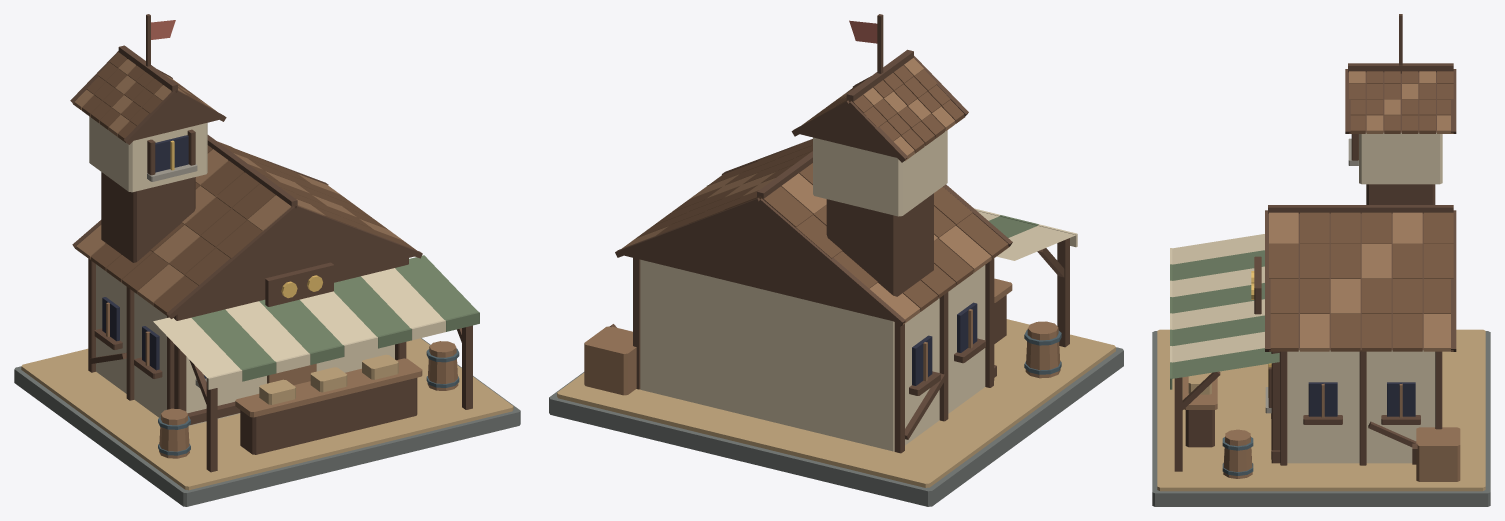
Rendered from ENV_Landmark_outpost_LOD0.glb.
3 renders of one model, left to right at view 1: azimuth 30°, elevation 25°; view 2: azimuth 150°, elevation 25°; view 3: azimuth 270°, elevation 25°, orthographic. The views are drawn at different scales.
Parts seen in each view (by area): view 1: ENV_Landmark_outpost_LOD0_s3-6_sand, ENV_Landmark_outpost_LOD0_s3-6_plasterIvory, ENV_Landmark_outpost_LOD0_s3-6_woodDark, ENV_Landmark_outpost_LOD0_s4-6_woodDark, ENV_Landmark_outpost_LOD0_s4-6_roofDark, ENV_Landmark_outpost_LOD0_s3-6_olive, ENV_Landmark_outpost_LOD0_s5-6_woodDark, ENV_Landmark_outpost_LOD0_s3-6_stoneDark, ENV_Landmark_outpost_LOD0_s4-6_woodLight, ENV_Landmark_outpost_LOD0_s5-6_plasterIvory, ENV_Landmark_outpost_LOD0_s5-6_roofDark, ENV_Landmark_outpost_LOD0_s3-6_woodLight (+4 smaller); view 2: ENV_Landmark_outpost_LOD0_s3-6_plasterIvory, ENV_Landmark_outpost_LOD0_s3-6_sand, ENV_Landmark_outpost_LOD0_s4-6_woodDark, ENV_Landmark_outpost_LOD0_s3-6_stoneDark, ENV_Landmark_outpost_LOD0_s5-6_woodDark, ENV_Landmark_outpost_LOD0_s4-6_roofDark, ENV_Landmark_outpost_LOD0_s3-6_woodDark, ENV_Landmark_outpost_LOD0_s5-6_plasterIvory, ENV_Landmark_outpost_LOD0_s5-6_roofDark, ENV_Landmark_outpost_LOD0_s6-6_woodLight, ENV_Landmark_outpost_LOD0_s4-6_woodLight, ENV_Landmark_outpost_LOD0_s5-6_woodLight (+2 smaller); view 3: ENV_Landmark_outpost_LOD0_s3-6_sand, ENV_Landmark_outpost_LOD0_s4-6_roofDark, ENV_Landmark_outpost_LOD0_s3-6_plasterIvory, ENV_Landmark_outpost_LOD0_s4-6_woodLight, ENV_Landmark_outpost_LOD0_s3-6_stoneDark, ENV_Landmark_outpost_LOD0_s3-6_woodDark, ENV_Landmark_outpost_LOD0_s3-6_olive, ENV_Landmark_outpost_LOD0_s5-6_roofDark, ENV_Landmark_outpost_LOD0_s4-6_woodDark, ENV_Landmark_outpost_LOD0_s5-6_plasterIvory, ENV_Landmark_outpost_LOD0_s5-6_woodDark, ENV_Landmark_outpost_LOD0_s6-6_woodLight (+3 smaller).
Part boxes in pixels (left/top/right/bottom): ENV_Landmark_outpost_LOD0_s3-6_sand: left=21, top=338, right=513, bottom=490; ENV_Landmark_outpost_LOD0_s3-6_plasterIvory: left=96, top=264, right=445, bottom=425; ENV_Landmark_outpost_LOD0_s3-6_woodDark: left=88, top=258, right=472, bottom=472; ENV_Landmark_outpost_LOD0_s4-6_woodDark: left=72, top=135, right=422, bottom=318; ENV_Landmark_outpost_LOD0_s4-6_roofDark: left=90, top=141, right=416, bottom=316; ENV_Landmark_outpost_LOD0_s3-6_olive: left=191, top=255, right=479, bottom=381; ENV_Landmark_outpost_LOD0_s5-6_woodDark: left=70, top=45, right=226, bottom=262; ENV_Landmark_outpost_LOD0_s3-6_stoneDark: left=14, top=338, right=520, bottom=506; ENV_Landmark_outpost_LOD0_s4-6_woodLight: left=75, top=149, right=458, bottom=390; ENV_Landmark_outpost_LOD0_s5-6_plasterIvory: left=89, top=116, right=207, bottom=192; ENV_Landmark_outpost_LOD0_s5-6_roofDark: left=82, top=52, right=216, bottom=142; ENV_Landmark_outpost_LOD0_s3-6_woodLight: left=106, top=302, right=422, bottom=417; ENV_Landmark_outpost_LOD0_s3-6_plasterIvory: left=640, top=208, right=1077, bottom=451; ENV_Landmark_outpost_LOD0_s3-6_sand: left=557, top=319, right=1115, bottom=487; ENV_Landmark_outpost_LOD0_s4-6_woodDark: left=615, top=139, right=1012, bottom=326; ENV_Landmark_outpost_LOD0_s3-6_stoneDark: left=549, top=347, right=1123, bottom=506; ENV_Landmark_outpost_LOD0_s5-6_woodDark: left=791, top=49, right=968, bottom=296; ENV_Landmark_outpost_LOD0_s4-6_roofDark: left=636, top=139, right=1009, bottom=311; ENV_Landmark_outpost_LOD0_s3-6_woodDark: left=633, top=238, right=1069, bottom=453; ENV_Landmark_outpost_LOD0_s5-6_plasterIvory: left=813, top=130, right=947, bottom=216; ENV_Landmark_outpost_LOD0_s5-6_roofDark: left=805, top=65, right=965, bottom=153; ENV_Landmark_outpost_LOD0_s6-6_woodLight: left=584, top=321, right=1060, bottom=395; ENV_Landmark_outpost_LOD0_s4-6_woodLight: left=622, top=172, right=991, bottom=324; ENV_Landmark_outpost_LOD0_s5-6_woodLight: left=802, top=58, right=955, bottom=160; ENV_Landmark_outpost_LOD0_s3-6_sand: left=1157, top=329, right=1485, bottom=491; ENV_Landmark_outpost_LOD0_s4-6_roofDark: left=1269, top=212, right=1453, bottom=351; ENV_Landmark_outpost_LOD0_s3-6_plasterIvory: left=1170, top=234, right=1435, bottom=463; ENV_Landmark_outpost_LOD0_s4-6_woodLight: left=1223, top=212, right=1453, bottom=478; ENV_Landmark_outpost_LOD0_s3-6_stoneDark: left=1152, top=331, right=1490, bottom=506; ENV_Landmark_outpost_LOD0_s3-6_woodDark: left=1174, top=350, right=1442, bottom=471; ENV_Landmark_outpost_LOD0_s3-6_olive: left=1170, top=250, right=1279, bottom=389; ENV_Landmark_outpost_LOD0_s5-6_roofDark: left=1349, top=71, right=1453, bottom=133; ENV_Landmark_outpost_LOD0_s4-6_woodDark: left=1254, top=205, right=1456, bottom=351; ENV_Landmark_outpost_LOD0_s5-6_plasterIvory: left=1359, top=132, right=1442, bottom=184; ENV_Landmark_outpost_LOD0_s5-6_woodDark: left=1345, top=63, right=1456, bottom=204; ENV_Landmark_outpost_LOD0_s6-6_woodLight: left=1416, top=427, right=1460, bottom=481.
Size of the model in its own units: 9.2 by 9.86 by 8.1.
